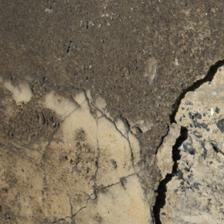Crack: (55, 35, 166, 118), (63, 78, 130, 146), (3, 43, 83, 95), (70, 58, 120, 130)
